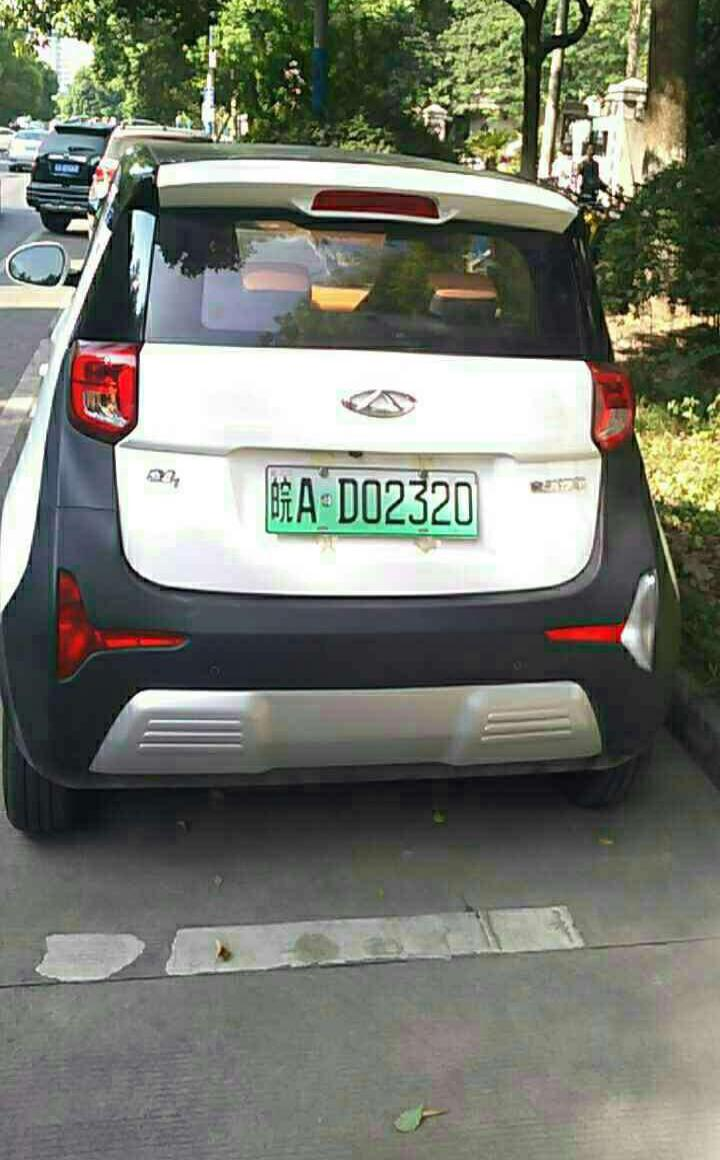car_id: (262, 460, 480, 534)
